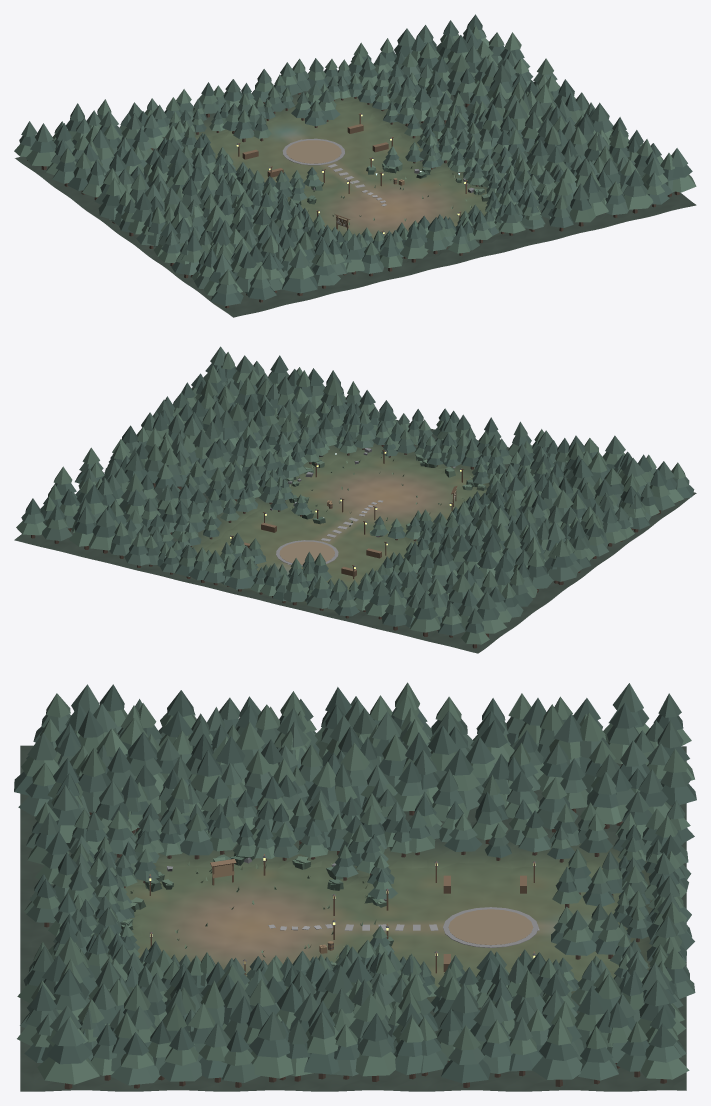
File: camp_hub.glb
3 renders of one model, top to bottom at view 1: azimuth 30°, elevation 25°; view 2: azimuth 150°, elevation 25°; view 3: azimuth 270°, elevation 25°, orthographic. The views are drawn at different scales.
Visible parts, largest first — view 1: camp_paint, FarmBoundaryTrees; view 2: camp_paint, FarmBoundaryTrees; view 3: camp_paint, FarmBoundaryTrees.
Boxes of the visible parts, x1=… form: camp_paint: x1=14, y1=14, x2=696, y2=317; FarmBoundaryTrees: x1=405, y1=100, x2=548, y2=194; camp_paint: x1=14, y1=346, x2=696, y2=653; FarmBoundaryTrees: x1=193, y1=410, x2=318, y2=511; camp_paint: x1=14, y1=682, x2=696, y2=1091; FarmBoundaryTrees: x1=187, y1=940, x2=387, y2=1012.
Size of the model in its own units: 78.62 by 8.02 by 62.77.
